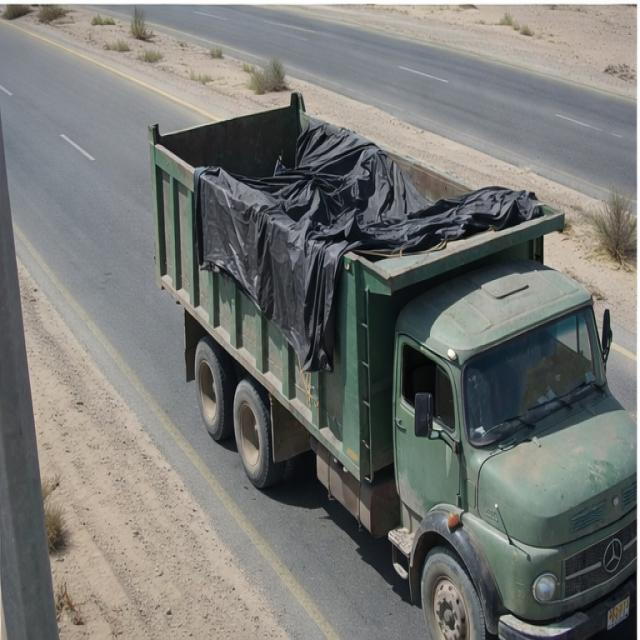Box: (154, 90, 567, 288)
Truck: (145, 77, 640, 640)
